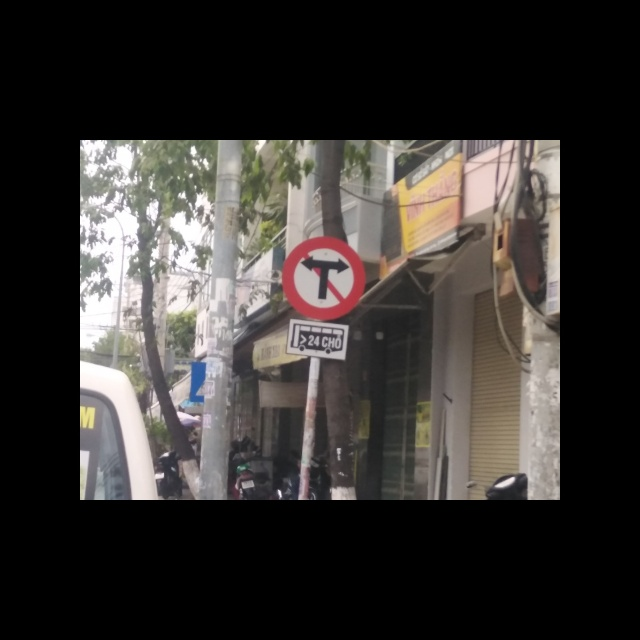Cấm rẽ trái và rẽ phải: (280, 235, 367, 320)
